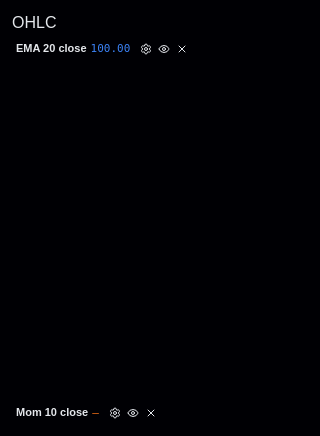
Test: IndicatorLegends › [10.6.7] should stop holding the values once the pointer is back on the chart, even if its pointerout was lost
Hover over the element showing "EMA 20 close 100.00" at (103, 49), box [12, 39, 194, 59]
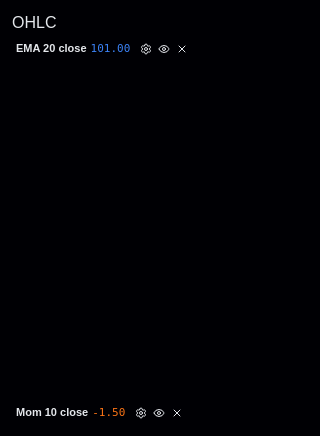
expect the text "101.00" is shown: met, box [90, 42, 130, 56]
